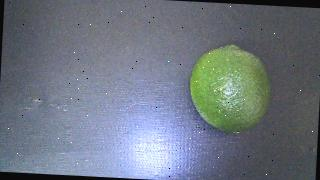EXPORTACION: (188, 43, 273, 135)
